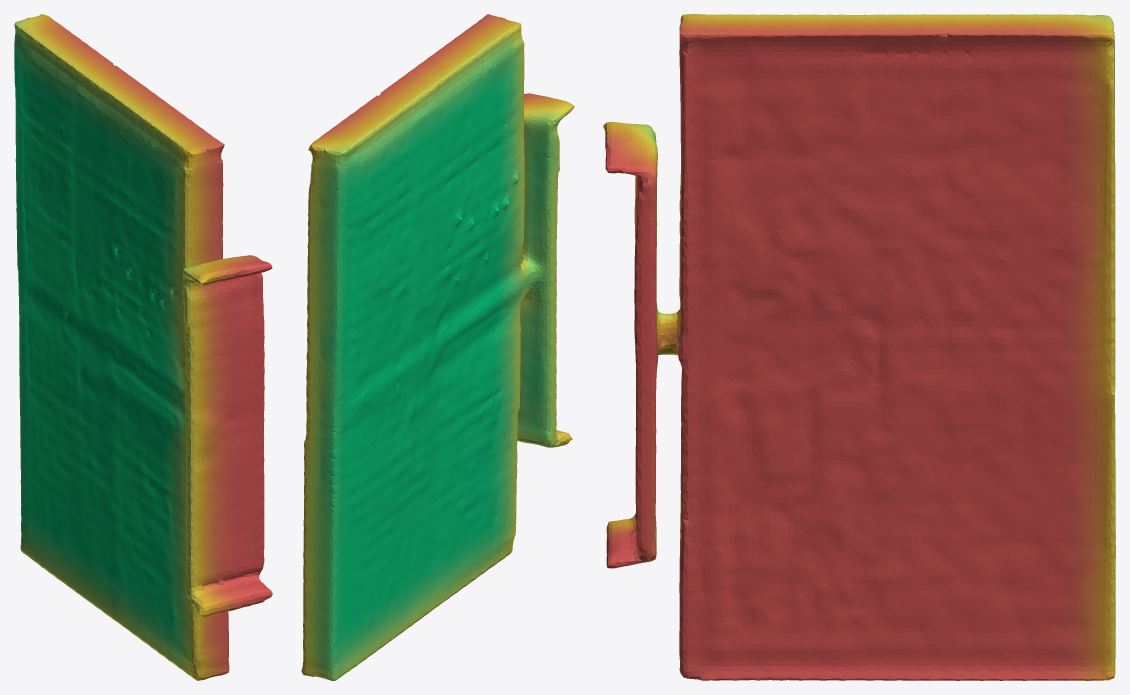
The model's file is demo3con.glb.
The picture shows the model from 3 angles, left to right: view 1: azimuth 30°, elevation 25°; view 2: azimuth 150°, elevation 25°; view 3: azimuth 270°, elevation 25°; orthographic projection. The views are drawn at different scales.
Visible parts, largest first — view 1: Screenshot_2026-10-07_194949.obj; view 2: Screenshot_2026-10-07_194949.obj; view 3: Screenshot_2026-10-07_194949.obj.
Part boxes in pixels (x1,y1,x2,y2): Screenshot_2026-10-07_194949.obj: (14, 14, 272, 680); Screenshot_2026-10-07_194949.obj: (301, 14, 574, 680); Screenshot_2026-10-07_194949.obj: (603, 14, 1115, 680).
Bounding box in the file's own units: 0.3061 × 1.98 × 1.43.
